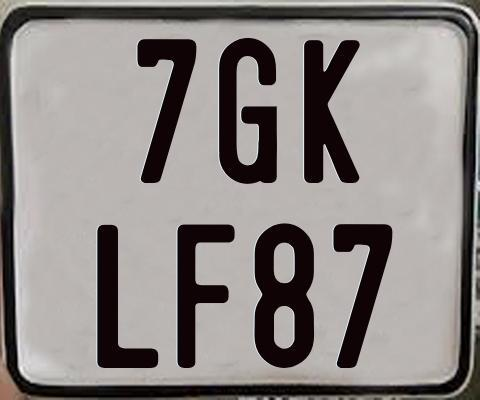7: (135, 36, 201, 181), (331, 221, 394, 365)
8: (254, 220, 320, 368)
F: (177, 223, 241, 367)
G: (216, 36, 277, 186)
K: (304, 39, 362, 186)
L: (97, 225, 161, 374)
